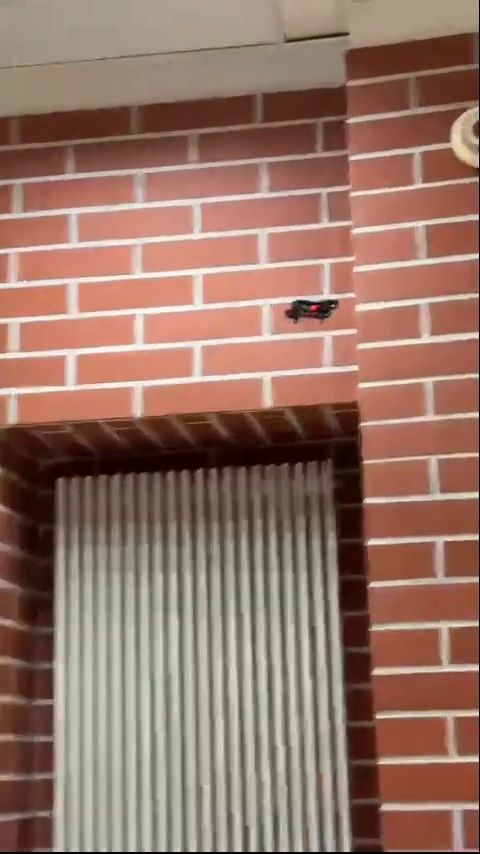drone: (286, 294, 344, 326)
